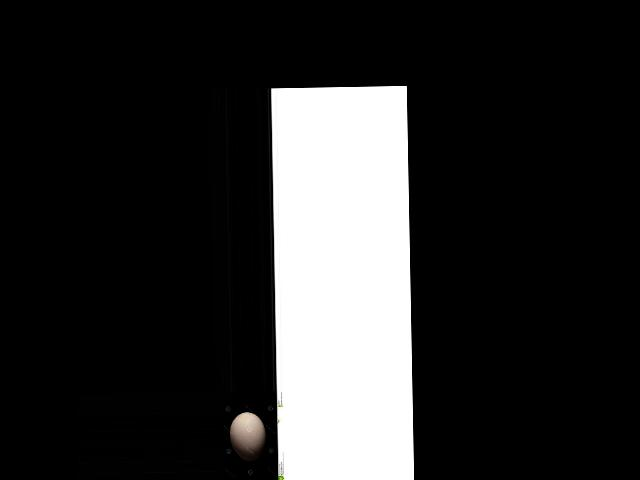egg: (229, 411, 266, 461)
